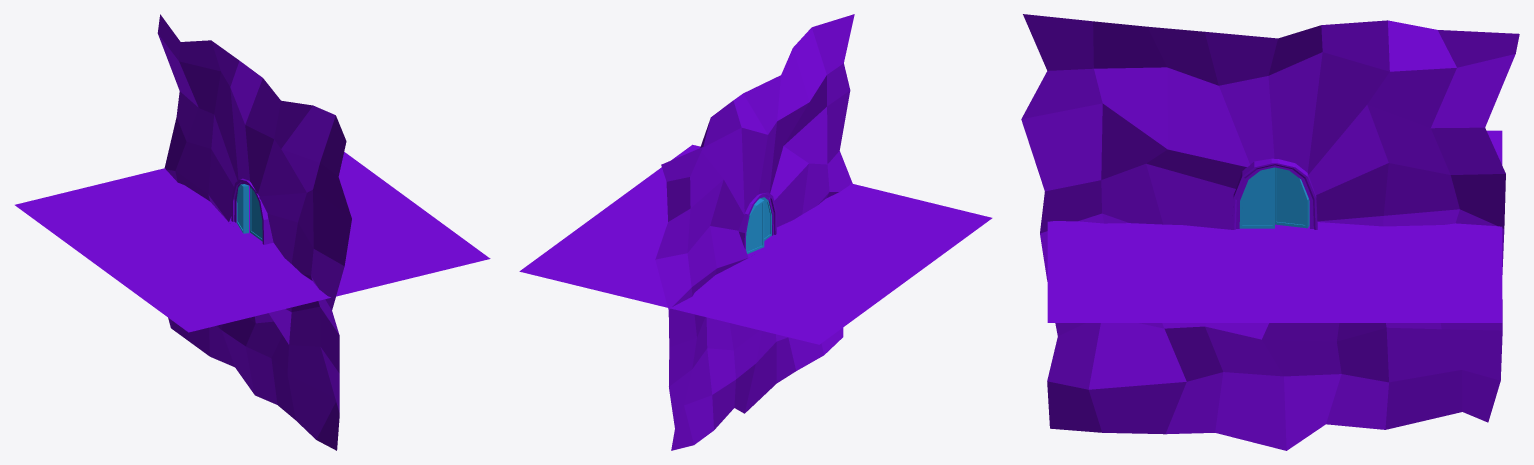
Rendered from Porte des rêves.fbx.
3 views of the same model, side by side, from view 1: azimuth 30°, elevation 25°; view 2: azimuth 150°, elevation 25°; view 3: azimuth 270°, elevation 25° (orthographic). The views are drawn at different scales.
Parts seen in each view (by area): view 1: Plane.001, Plane, Cube, Cube.001, Cube.002; view 2: Plane.001, Plane, Cube.001, Cube; view 3: Plane.001, Plane, Cube.002, Cube.001, Cube.
Boxes of the visible parts, x1,y1,x2,y2 form: Plane.001: [157, 14, 351, 450]; Plane: [15, 152, 490, 332]; Cube: [231, 178, 273, 244]; Cube.001: [236, 184, 248, 233]; Cube.002: [250, 187, 262, 241]; Plane.001: [655, 14, 854, 450]; Plane: [519, 144, 992, 344]; Cube.001: [746, 198, 764, 253]; Cube: [738, 192, 776, 249]; Plane.001: [1021, 14, 1519, 450]; Plane: [1047, 130, 1502, 322]; Cube.002: [1239, 167, 1274, 228]; Cube.001: [1275, 167, 1309, 228]; Cube: [1232, 158, 1317, 229].
Bounding box in the file's own units: 95.83 × 101 × 105.
